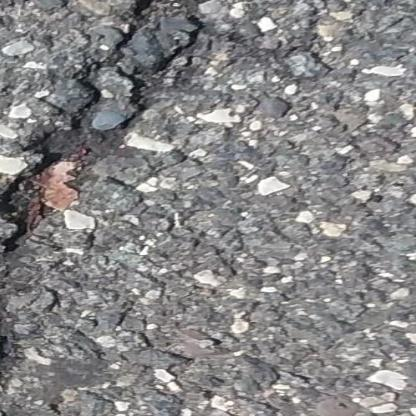Cracks: (0, 0, 228, 416)
